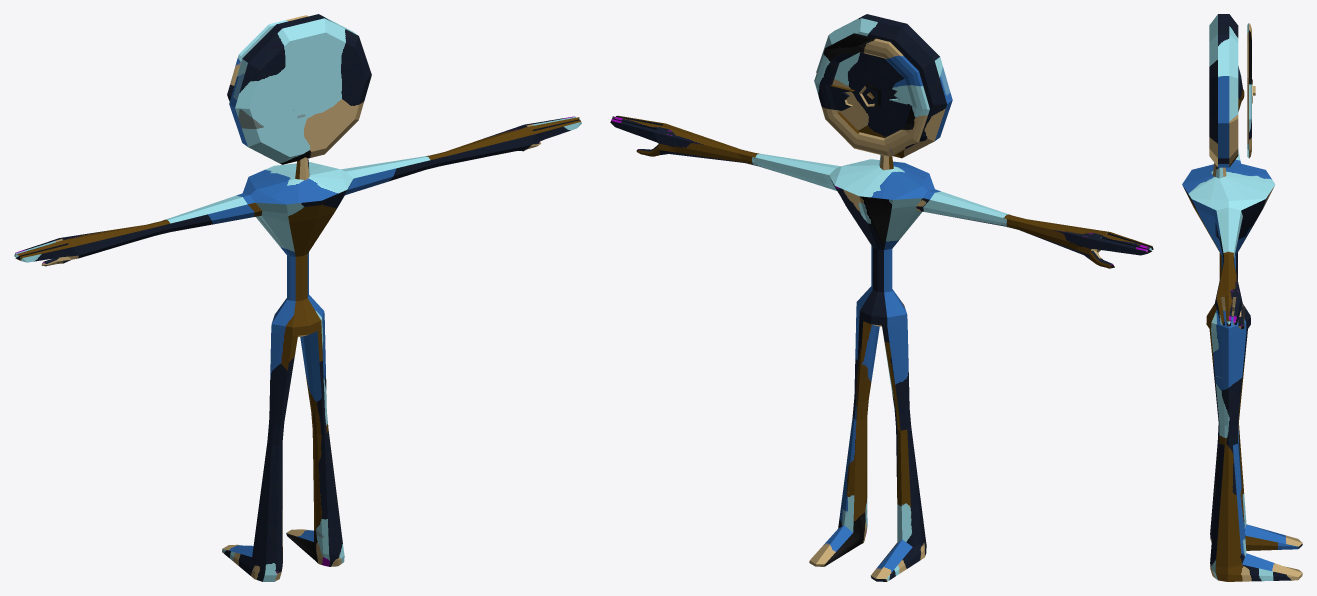
File: ORDER_model.fbx
The picture shows the model from 3 angles, left to right: view 1: azimuth 30°, elevation 25°; view 2: azimuth 150°, elevation 25°; view 3: azimuth 270°, elevation 25°; orthographic projection. The views are drawn at different scales.
Visible parts, largest first — view 1: ORDER; view 2: ORDER; view 3: ORDER.
Part boxes in pixels (<box>): ORDER: <box>14,14,581,581</box>; ORDER: <box>610,14,1153,581</box>; ORDER: <box>1182,14,1302,581</box>.
Bounding box in the file's own units: 12.13 × 11.26 × 2.29.
